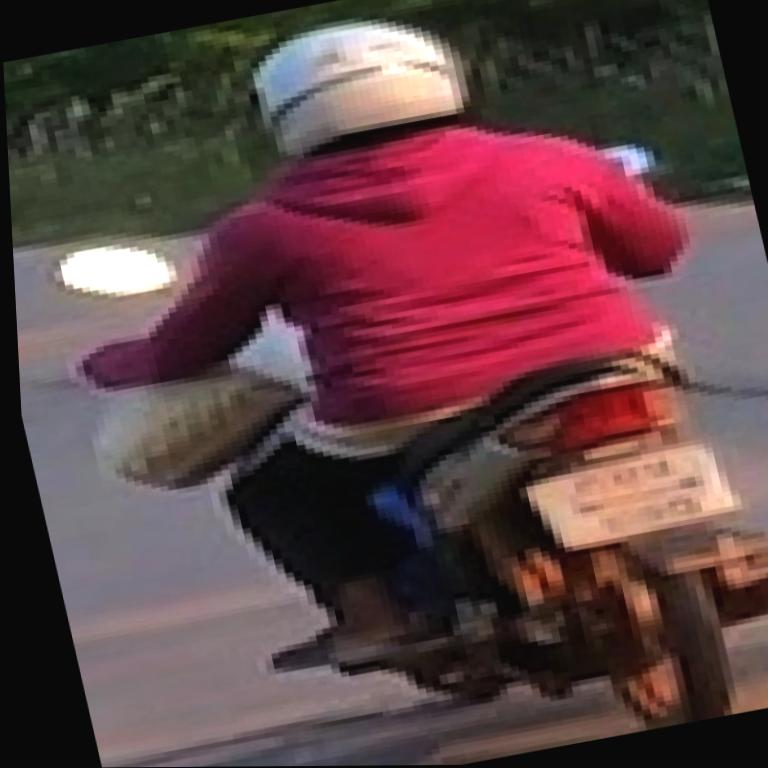license plate: (504, 434, 750, 560)
